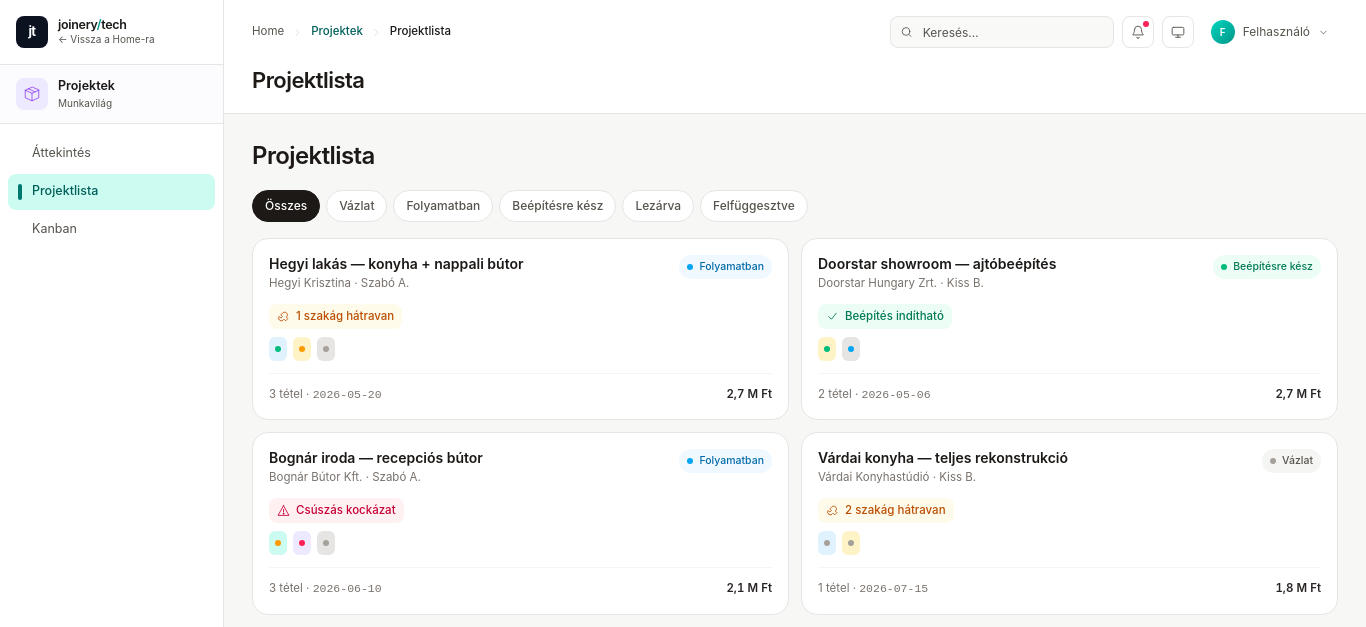
Test case: ProjectsPage › clicking project opens detail SlideOver
Click the text "Hegyi lakás — konyha + nappali bútor" at [396, 264], box [269,255,524,272]
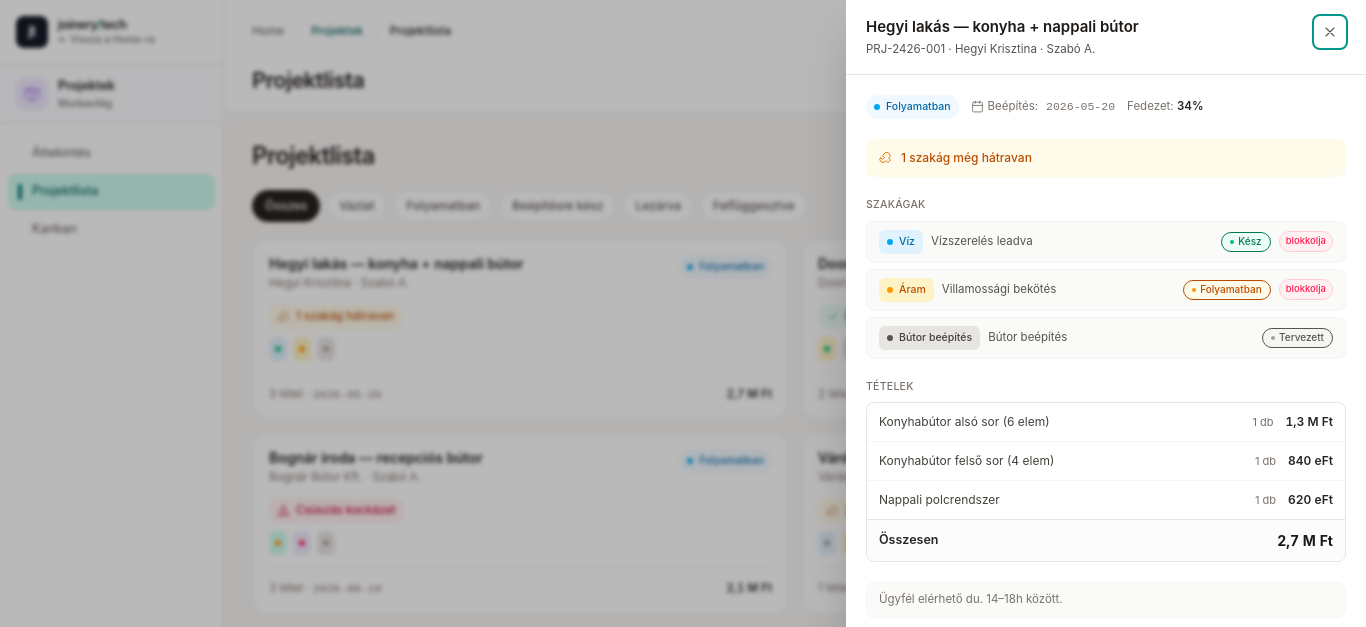
Check: the text "PRJ-2426-001 · Hegyi Krisztina · Szabó A." is shown, box [866,42,1095,56]
